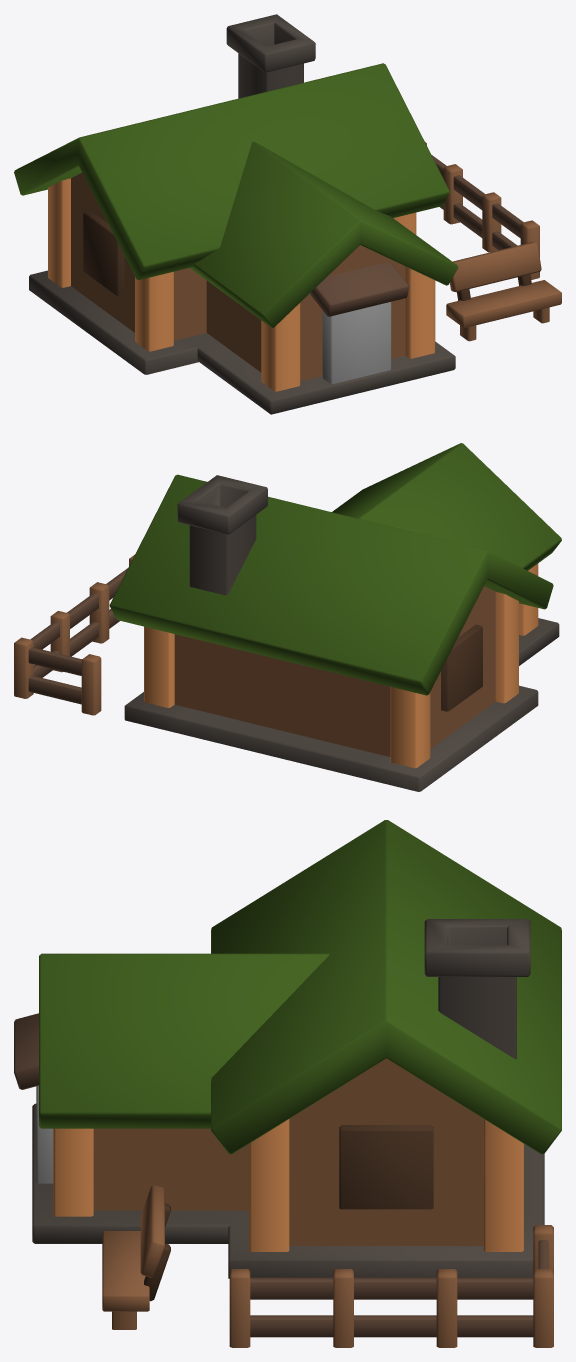
The model's file is House-L.fbx.
3 renders of one model, top to bottom at view 1: azimuth 30°, elevation 25°; view 2: azimuth 150°, elevation 25°; view 3: azimuth 270°, elevation 25°, orthographic. The views are drawn at different scales.
Visible parts, largest first — view 1: Cube.1280, Cube.1290, Cube.1281, Cube.1289, Cube.1279, Cube.1282, Cube.1291, Cube.1293, Cube.1284, Cube.1294, Cube.1283, Cube.1296 (+3 smaller); view 2: Cube.1280, Cube.1279, Cube.1290, Cube.1281, Cube.1282, Cube.1293, Cube.1292, Cube.1285, Cube.1288, Cube.1287, Cube.1286, Cube.1291; view 3: Cube.1280, Cube.1290, Cube.1279, Cube.1281, Cube.1289, Cube.1288, Cube.1293, Cube.1282, Cube.1292, Cube.1286, Cube.1294, Cube.1291 (+4 smaller).
Boxes of the visible parts, <box> form: Cube.1280: <box>14,63,449,280</box>; Cube.1290: <box>190,141,458,327</box>; Cube.1281: <box>29,270,455,414</box>; Cube.1289: <box>206,245,405,381</box>; Cube.1279: <box>71,173,206,340</box>; Cube.1282: <box>48,178,416,351</box>; Cube.1291: <box>261,267,435,391</box>; Cube.1293: <box>226,14,315,98</box>; Cube.1284: <box>322,302,391,384</box>; Cube.1294: <box>446,280,561,341</box>; Cube.1283: <box>310,261,408,316</box>; Cube.1296: <box>450,242,541,292</box>; Cube.1280: <box>109,474,553,695</box>; Cube.1279: <box>174,586,495,757</box>; Cube.1290: <box>332,443,561,570</box>; Cube.1281: <box>124,618,559,791</box>; Cube.1282: <box>144,592,518,768</box>; Cube.1293: <box>177,475,267,595</box>; Cube.1292: <box>441,624,482,711</box>; Cube.1285: <box>14,637,101,715</box>; Cube.1288: <box>30,568,127,677</box>; Cube.1287: <box>28,647,81,704</box>; Cube.1286: <box>50,554,134,672</box>; Cube.1291: <box>519,563,538,635</box>; Cube.1280: <box>211,820,561,1154</box>; Cube.1290: <box>39,953,329,1128</box>; Cube.1279: <box>289,1058,483,1245</box>; Cube.1281: <box>32,1103,544,1278</box>; Cube.1289: <box>93,1128,248,1210</box>; Cube.1288: <box>250,1277,533,1337</box>; Cube.1293: <box>424,919,530,1059</box>; Cube.1282: <box>249,1119,523,1251</box>; Cube.1292: <box>339,1125,433,1209</box>; Cube.1286: <box>229,1269,457,1347</box>; Cube.1294: <box>102,1231,149,1329</box>; Cube.1291: <box>53,1128,93,1216</box>.
Bounding box in the file's own units: 176 × 93.07 × 154.
